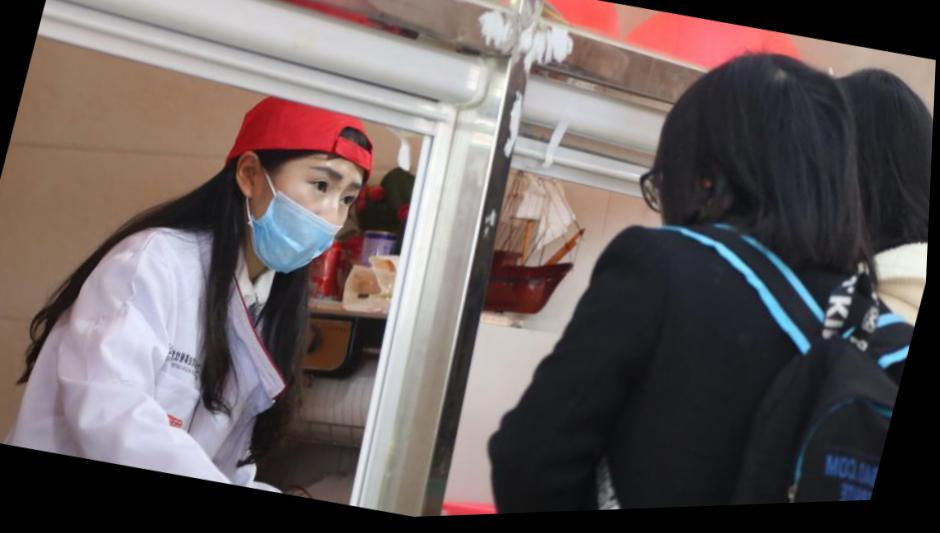WRONG: (250, 139, 373, 284)
